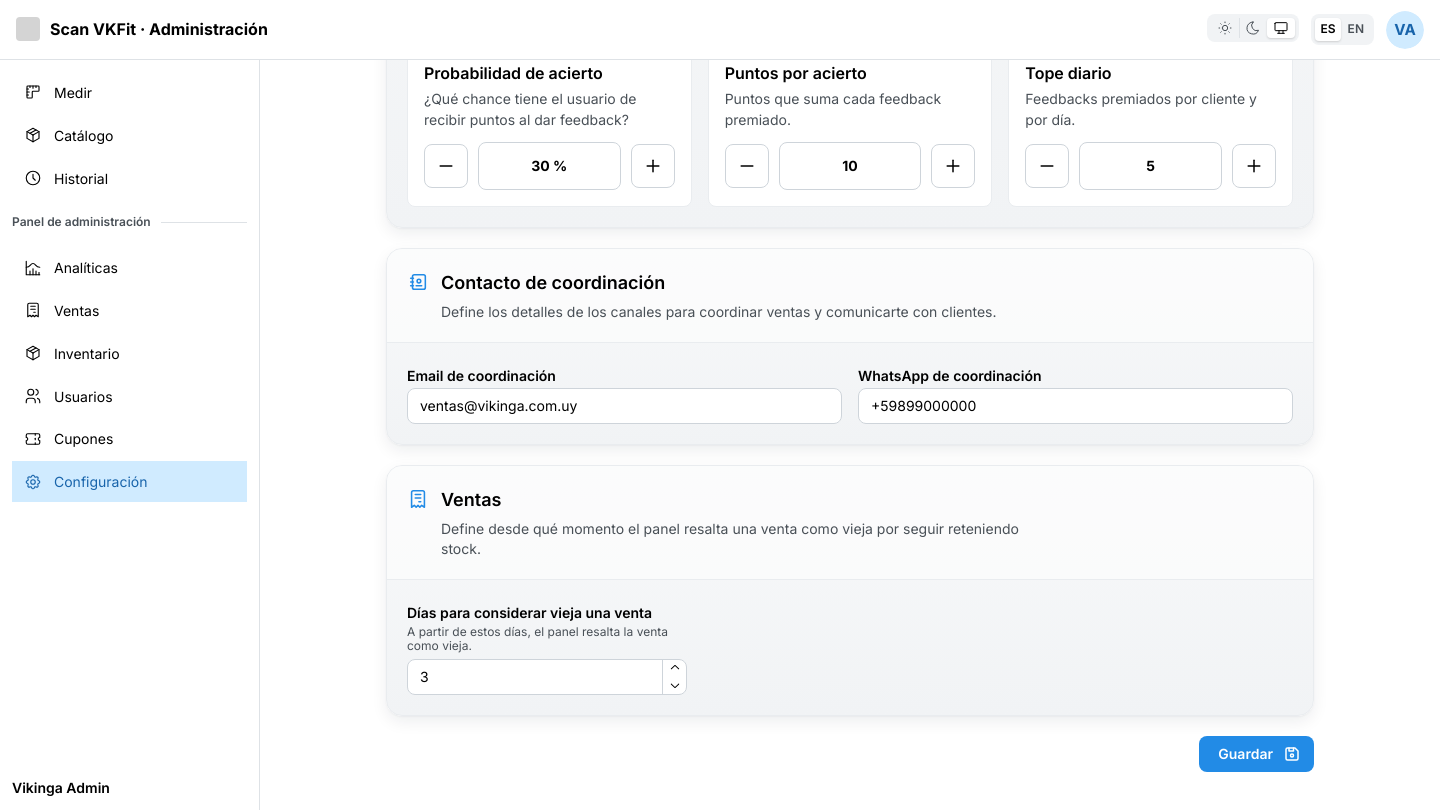
Test: configuración › no deja guardar sin el email de coordinación
The width and height of the screenshot is (1440, 810).
(page scrolled)
Clear the field labelled "Email de coordinación" at (624, 406), box [407, 388, 842, 424]
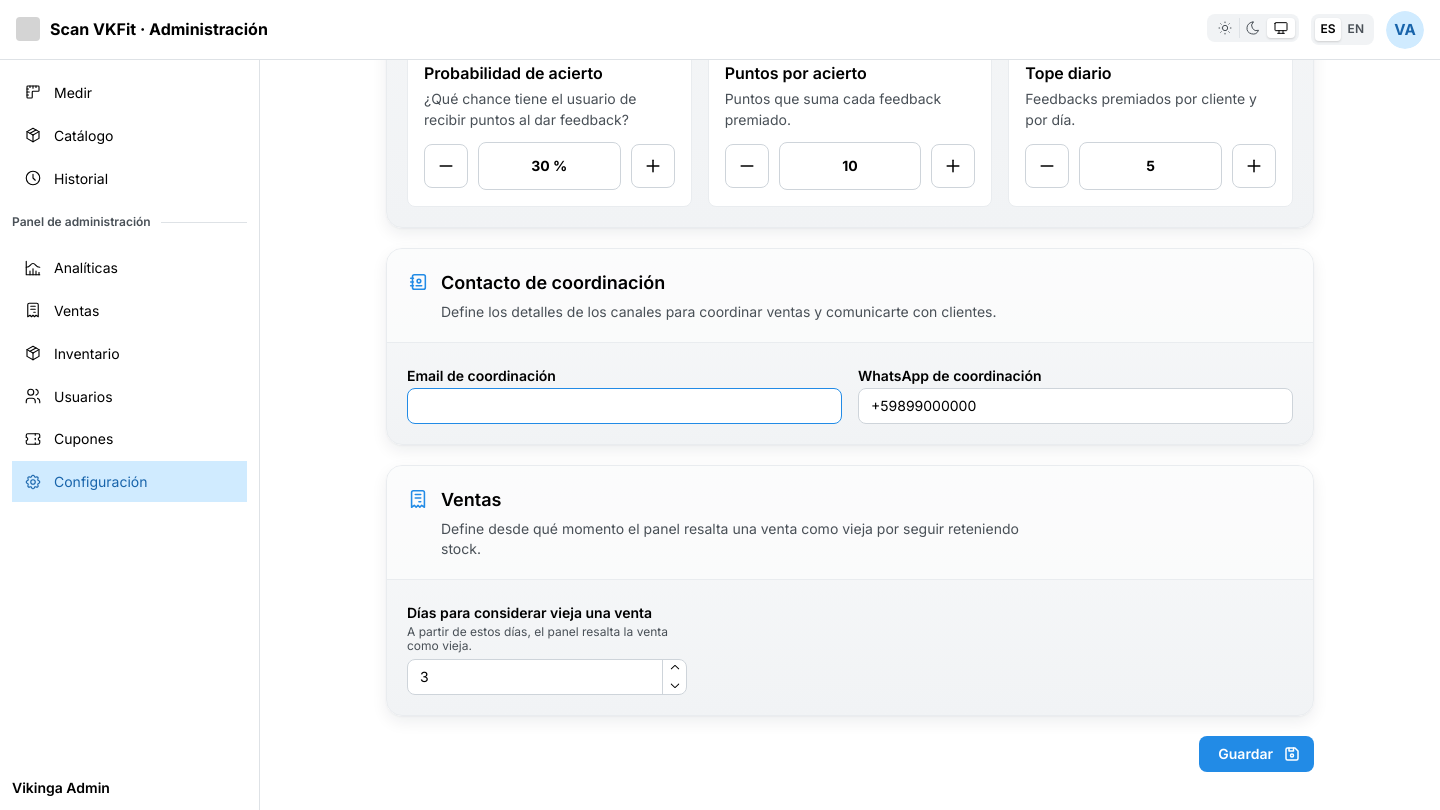
Click the button "Guardar" at (1257, 754), box [1199, 736, 1314, 772]
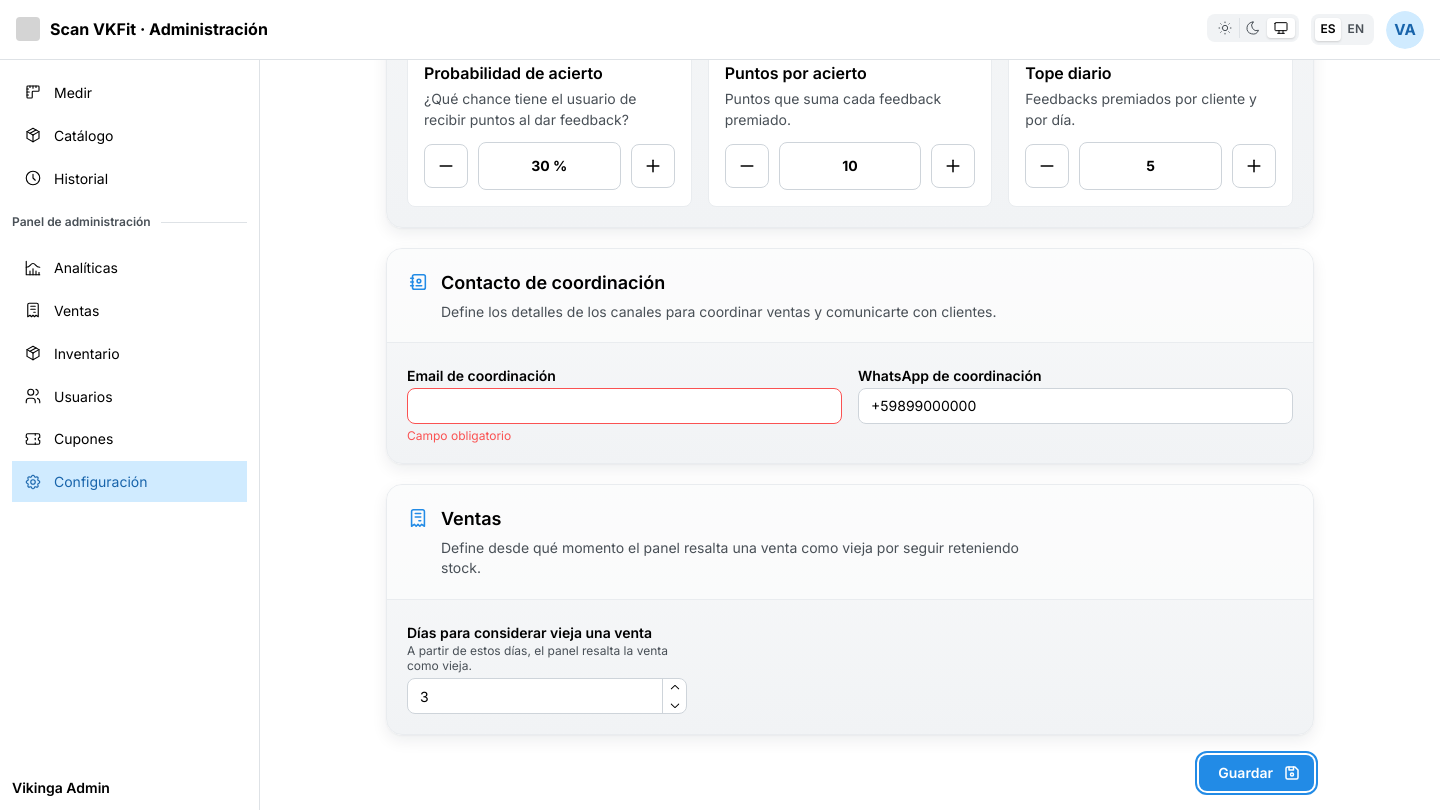
Expected: the text "Campo obligatorio" is shown, [407, 428, 511, 443]
